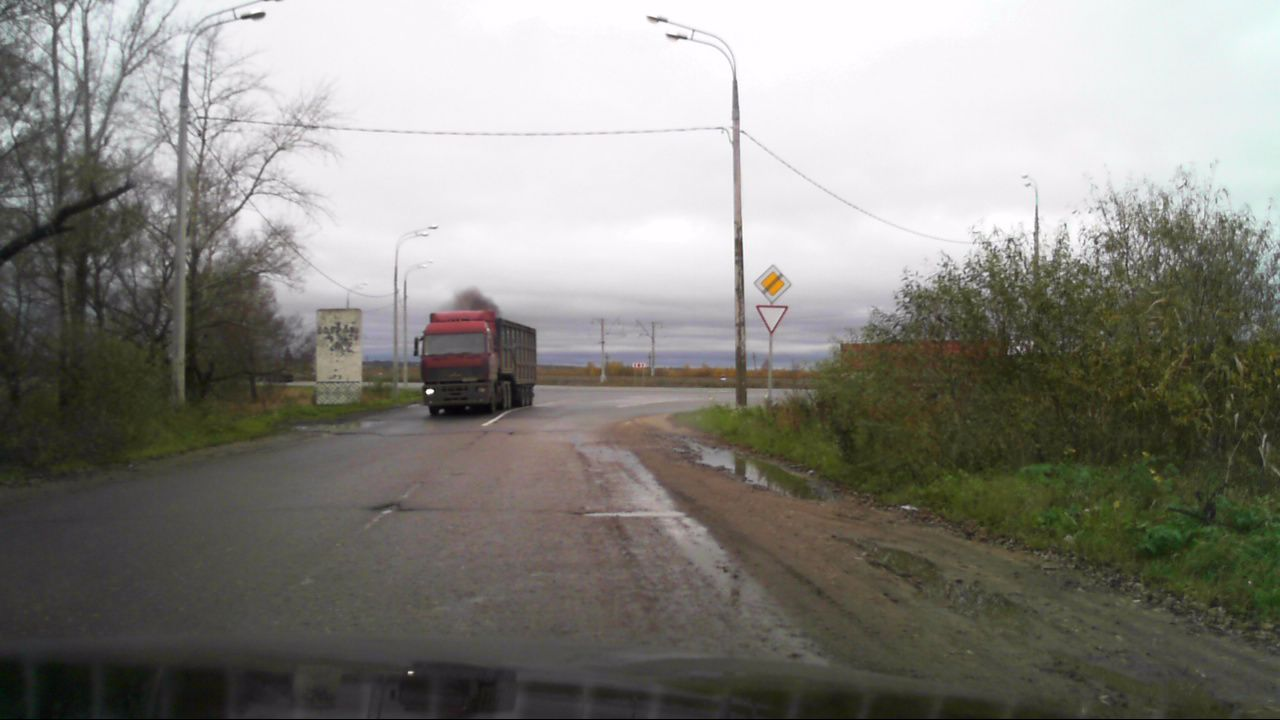main road: (751, 263, 793, 304)
